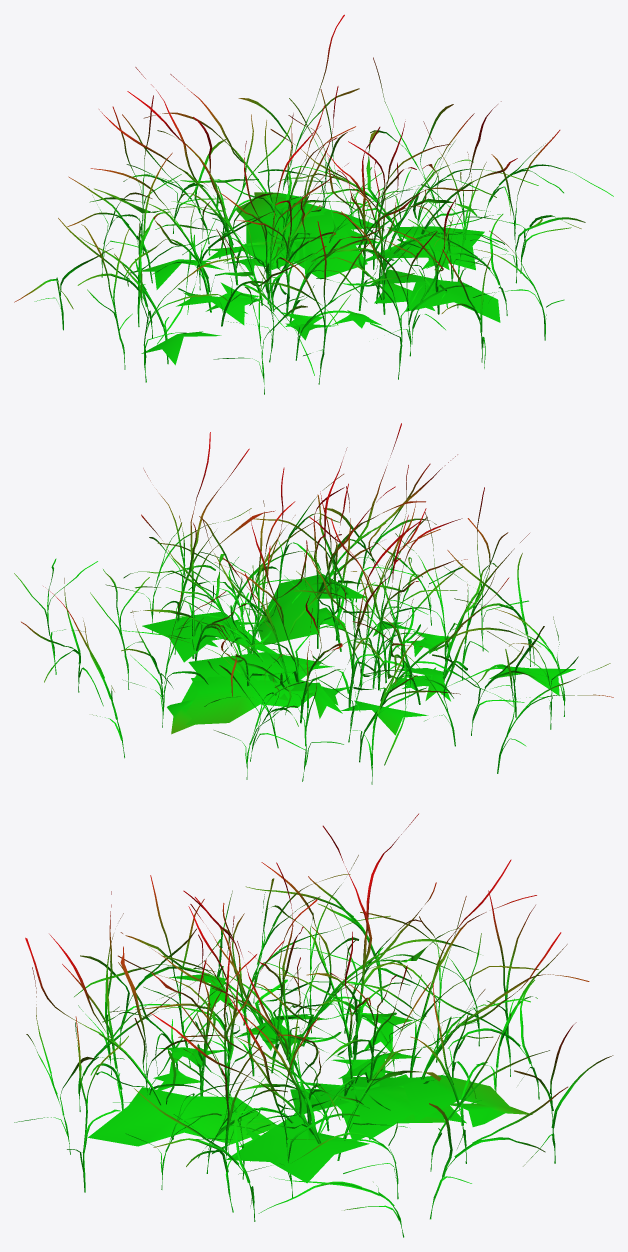
File: Kikuyu Grass_LOD0_Var6_wiljearqx.fbx
3 renders of one model, top to bottom at view 1: azimuth 30°, elevation 25°; view 2: azimuth 150°, elevation 25°; view 3: azimuth 270°, elevation 25°, orthographic. The views are drawn at different scales.
Parts seen in each view (by area): view 1: _8pn4_Var6_LOD0; view 2: _8pn4_Var6_LOD0; view 3: _8pn4_Var6_LOD0.
Boxes of the visible parts, bbox=[...] form: _8pn4_Var6_LOD0: bbox=[14, 14, 613, 394]; _8pn4_Var6_LOD0: bbox=[14, 423, 613, 784]; _8pn4_Var6_LOD0: bbox=[14, 813, 613, 1237].
Size of the model in its own units: 89 by 31.45 by 71.25.
